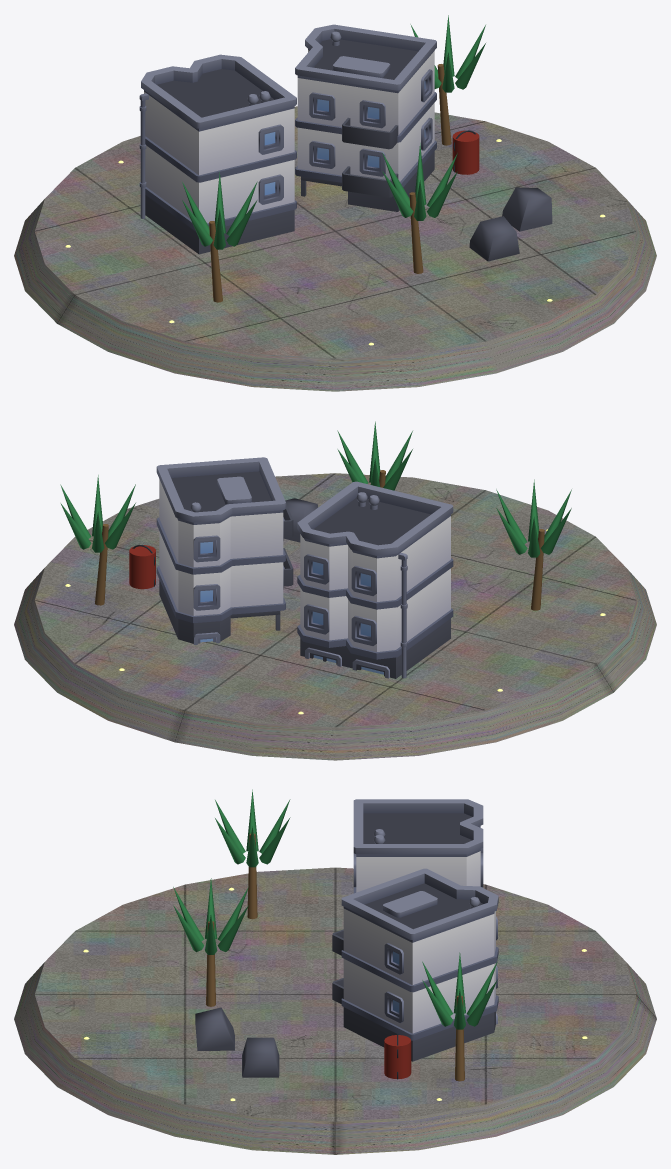
Rendered from town-T1.glb.
3 views of the same model, one above another, from view 1: azimuth 30°, elevation 25°; view 2: azimuth 150°, elevation 25°; view 3: azimuth 270°, elevation 25° (orthographic).
Parts seen in each view (by area): view 1: object 1, building-a, building-b, grass, object 28, object 31, object 14, object 21; view 2: object 1, building-a, building-b, object 28, grass, object 14, object 31; view 3: object 1, building-b, building-a, grass, object 28, object 14, object 31, object 21.
Part boxes in pixels (x1=…): object 1: x1=14, y1=106, x2=656, y2=391; building-a: x1=139, y1=54, x2=296, y2=254; building-b: x1=295, y1=24, x2=436, y2=211; grass: x1=469, y1=187, x2=552, y2=261; object 28: x1=452, y1=130, x2=479, y2=174; object 31: x1=437, y1=64, x2=451, y2=145; object 14: x1=209, y1=221, x2=222, y2=302; object 21: x1=409, y1=192, x2=423, y2=273; object 1: x1=14, y1=473, x2=656, y2=760; building-a: x1=297, y1=481, x2=453, y2=678; building-b: x1=156, y1=457, x2=293, y2=644; object 28: x1=129, y1=545, x2=155, y2=589; grass: x1=283, y1=498, x2=317, y2=542; object 14: x1=531, y1=529, x2=544, y2=610; object 31: x1=95, y1=524, x2=108, y2=605; object 1: x1=14, y1=867, x2=656, y2=1154; building-b: x1=332, y1=868, x2=498, y2=1061; building-a: x1=353, y1=799, x2=483, y2=893; grass: x1=195, y1=1007, x2=279, y2=1077; object 28: x1=384, y1=1035, x2=411, y2=1078; object 14: x1=247, y1=833, x2=257, y2=919; object 31: x1=455, y1=995, x2=464, y2=1081; object 21: x1=206, y1=921, x2=215, y2=1006.
Size of the model in its own units: 6.2 by 1.98 by 6.2.
Materials: 29 (5 with a texture image).
